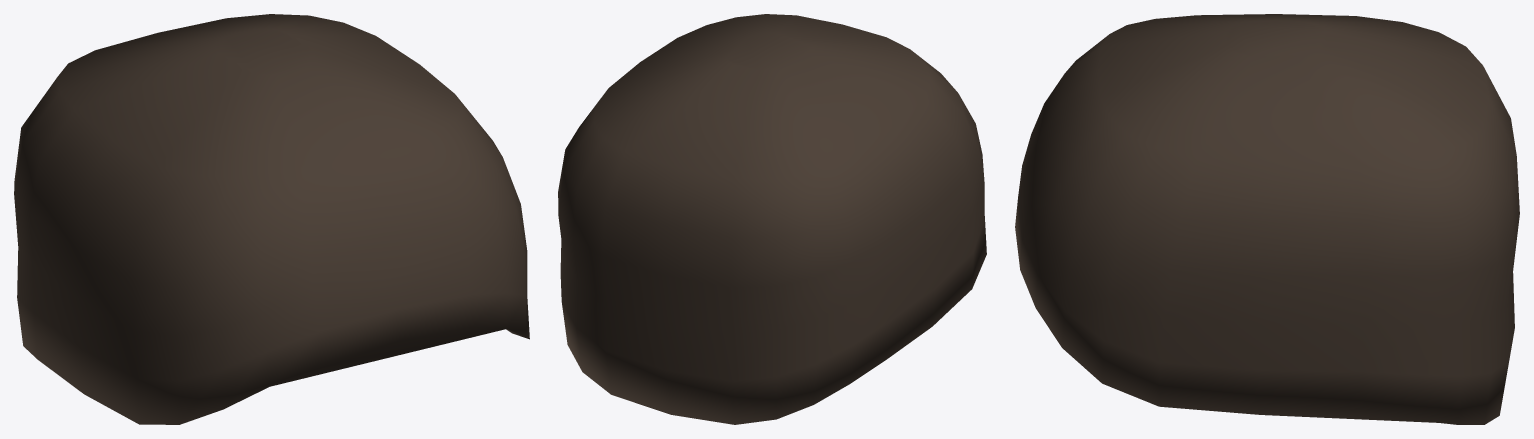
Rendered from hair_buzz.glb.
3 views of the same model, side by side, from view 1: azimuth 30°, elevation 25°; view 2: azimuth 150°, elevation 25°; view 3: azimuth 270°, elevation 25° (orthographic). The views are drawn at different scales.
Parts seen in each view (by area): view 1: hair_buzz; view 2: hair_buzz; view 3: hair_buzz.
Part boxes in pixels (left/top/right/bottom): hair_buzz: left=14, top=14, right=529, bottom=424; hair_buzz: left=558, top=14, right=986, bottom=424; hair_buzz: left=1015, top=14, right=1519, bottom=424.
Bounding box in the file's own units: 0.1648 × 0.143 × 0.1895.
